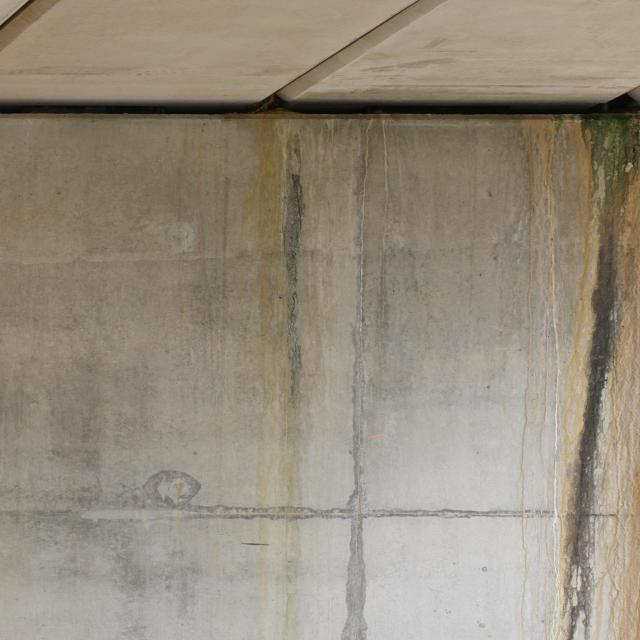vertical crack: (288, 174, 304, 350)
